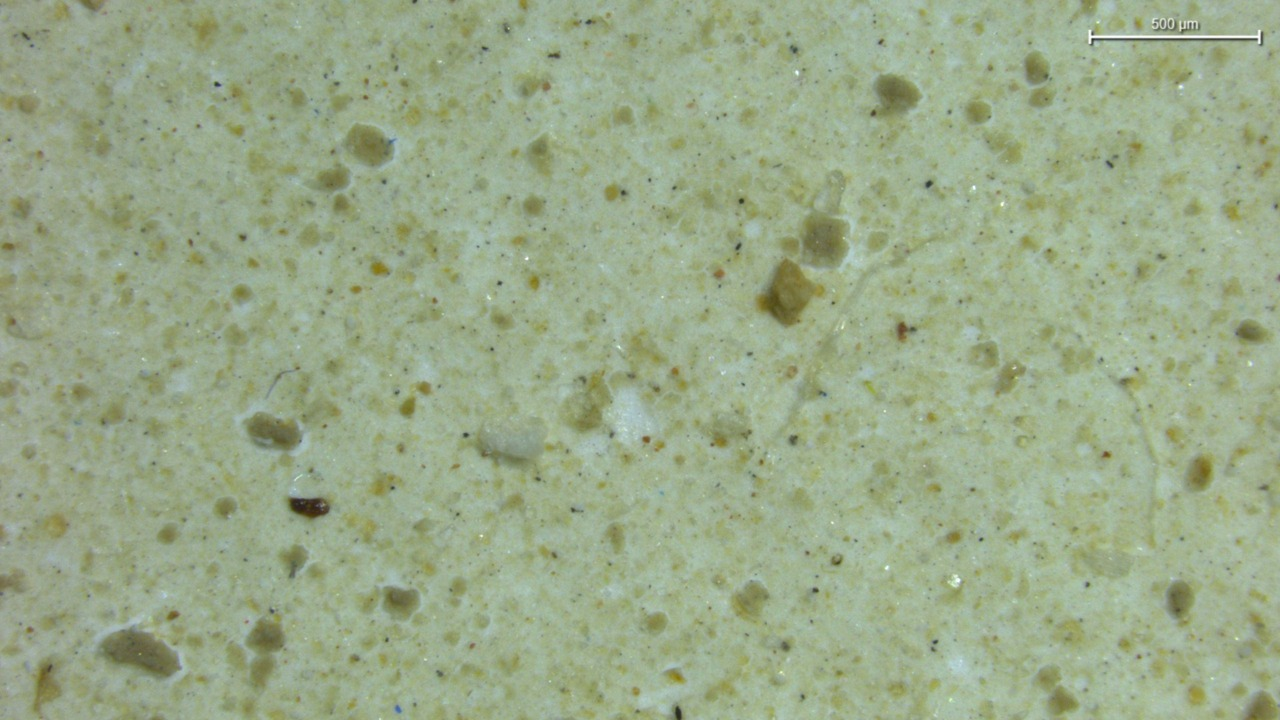microplastic_fragment: (479, 418, 546, 459)
